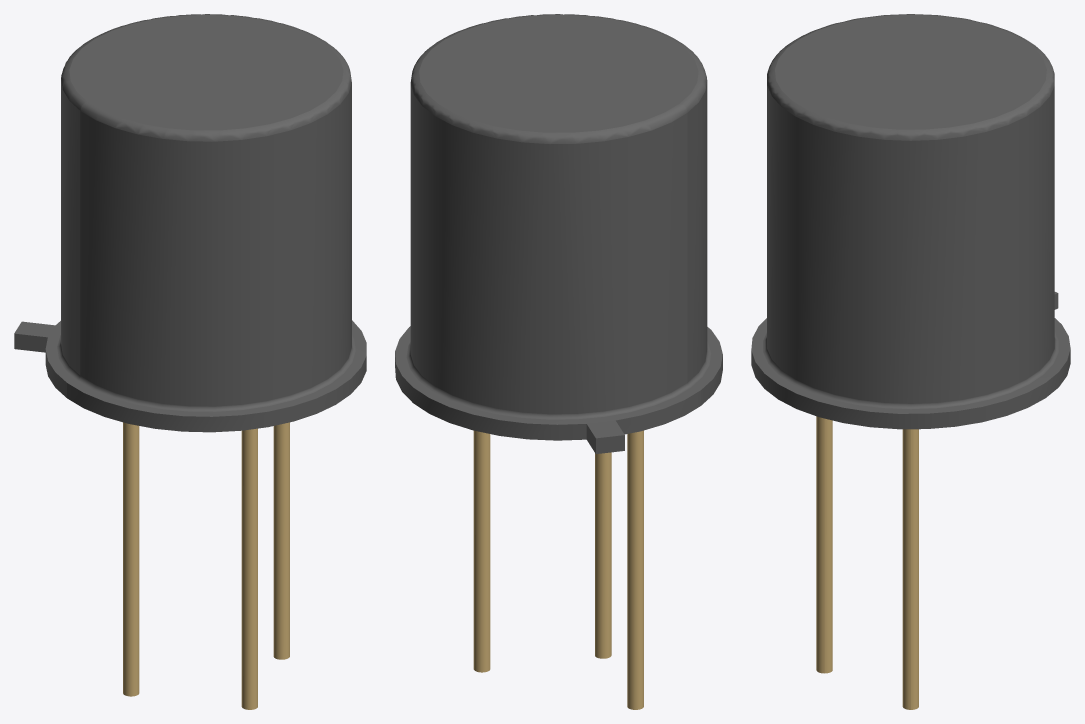
3 renders of one model, left to right at view 1: azimuth 30°, elevation 25°; view 2: azimuth 150°, elevation 25°; view 3: azimuth 270°, elevation 25°, orthographic. The views are drawn at different scales.
Visible parts, largest first — view 1: 0.16666666666666666_0.16666666666666666_0.16666666666666666_, 0.75_0.5_0.25_0.9; view 2: 0.16666666666666666_0.16666666666666666_0.16666666666666666_, 0.75_0.5_0.25_0.9; view 3: 0.16666666666666666_0.16666666666666666_0.16666666666666666_, 0.75_0.5_0.25_0.9.
Boxes of the visible parts, x1=… form: 0.16666666666666666_0.16666666666666666_0.16666666666666666_: x1=14, y1=14, x2=366, y2=432; 0.75_0.5_0.25_0.9: x1=123, y1=422, x2=289, y2=709; 0.16666666666666666_0.16666666666666666_0.16666666666666666_: x1=395, y1=14, x2=722, y2=453; 0.75_0.5_0.25_0.9: x1=473, y1=430, x2=643, y2=709; 0.16666666666666666_0.16666666666666666_0.16666666666666666_: x1=751, y1=14, x2=1070, y2=429; 0.75_0.5_0.25_0.9: x1=816, y1=416, x2=918, y2=709.
Bounding box in the file's own units: 0.9386 × 1.94 × 0.9392.
